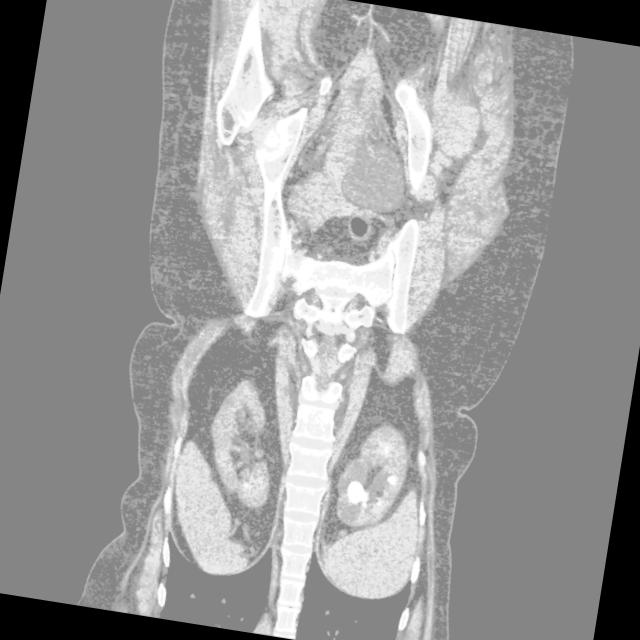STONE: (102, 321, 508, 562)
